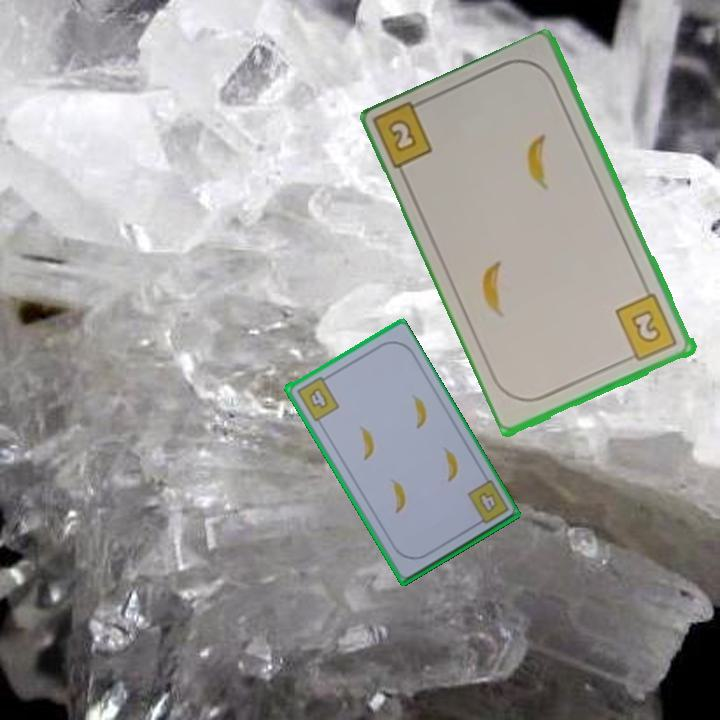2b: (612, 290, 681, 365), (373, 95, 436, 174)
4b: (293, 371, 342, 424), (475, 488, 500, 514)
